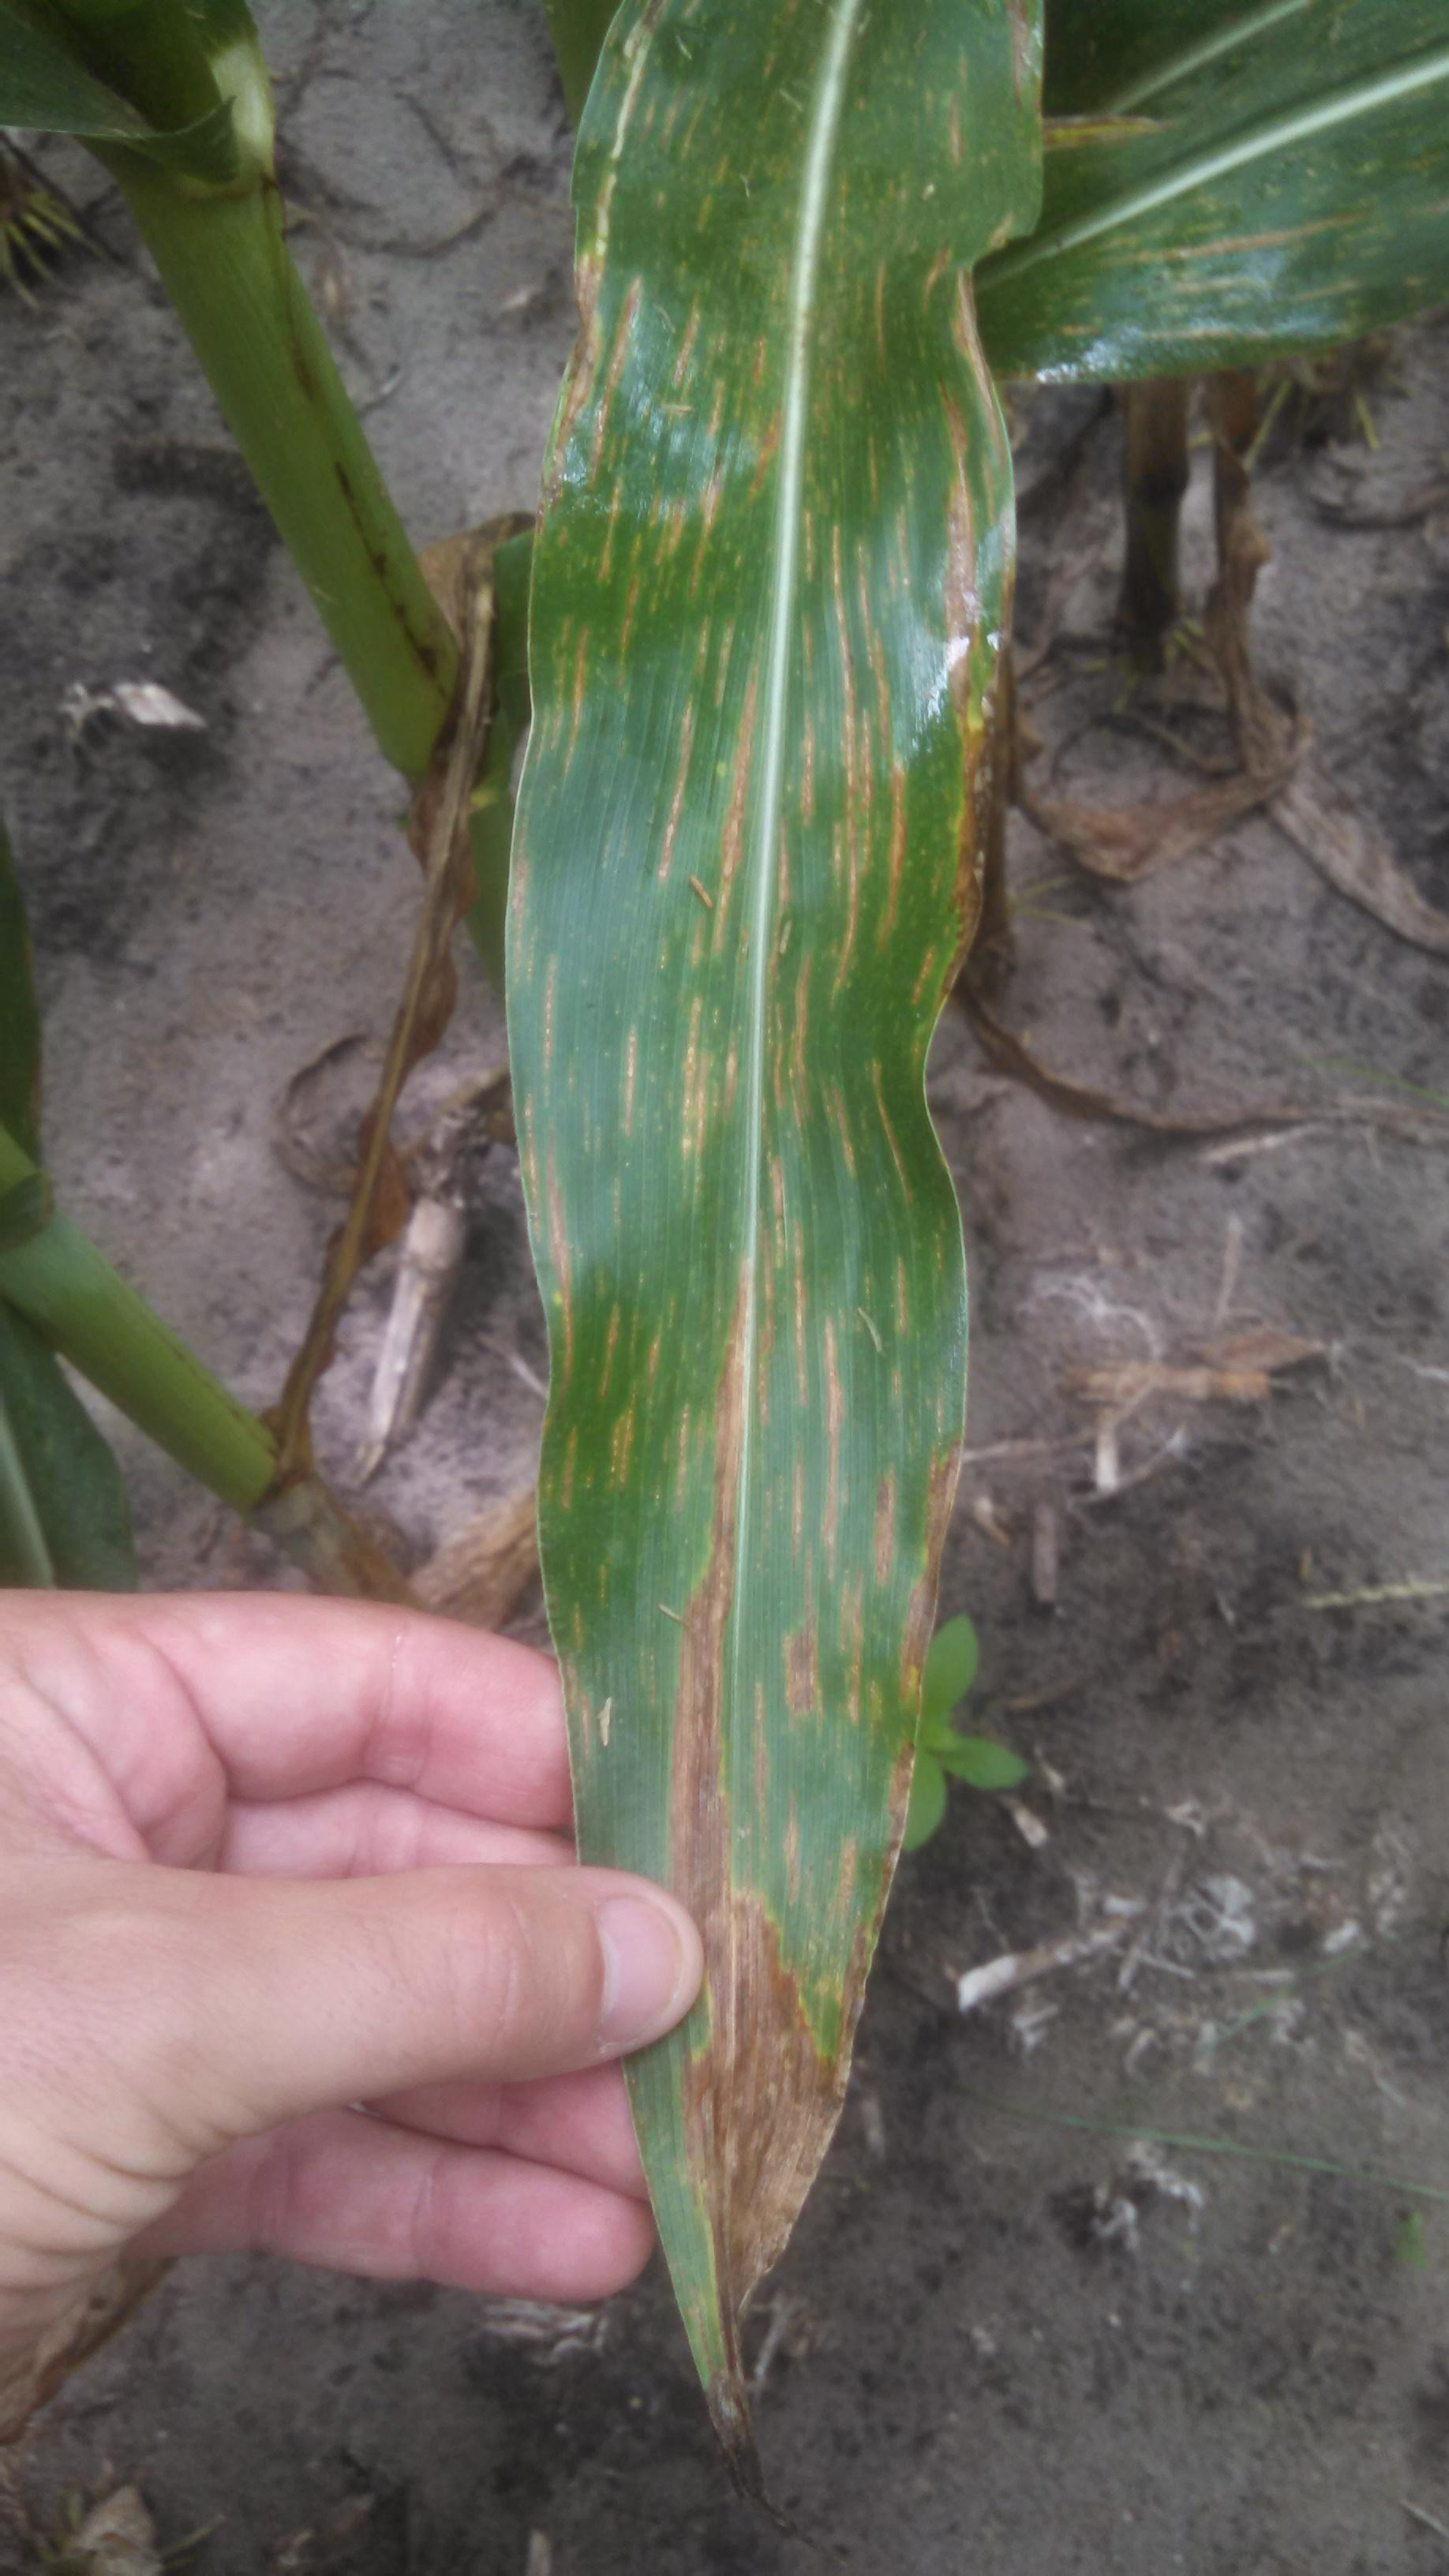Corn leaf blight: (492, 11, 1085, 2452)
